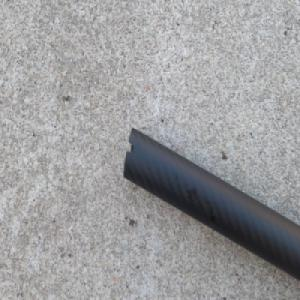LuggagePart: (121, 126, 300, 285)
